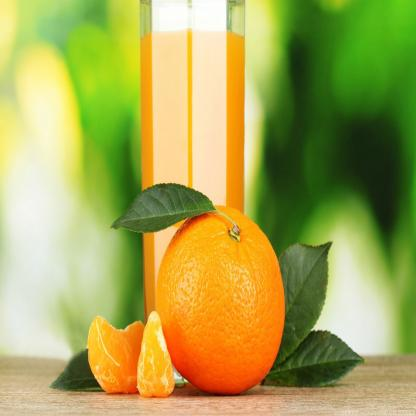orange: (152, 203, 289, 415)
